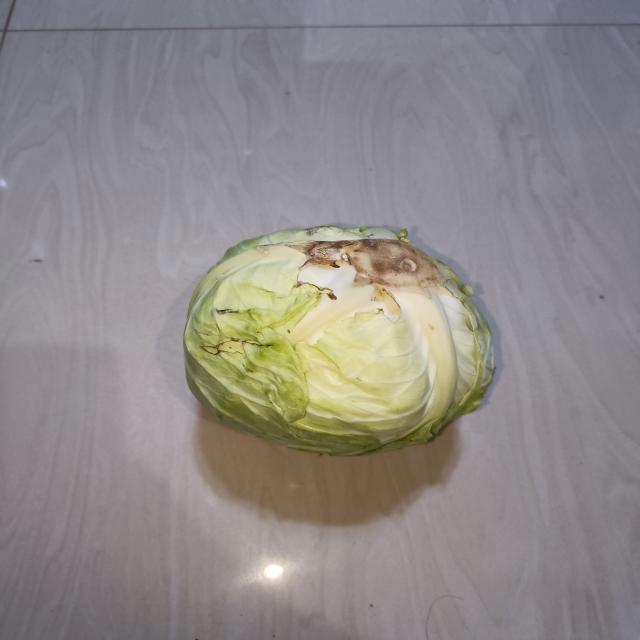cabbage: (178, 219, 500, 460)
